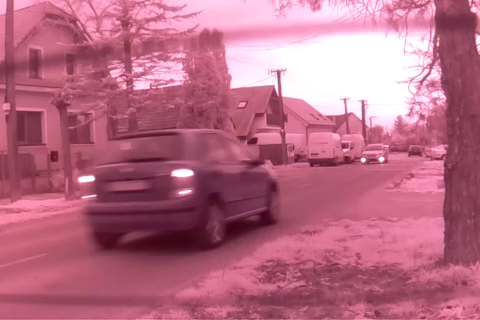car: (80, 127, 286, 249), (360, 142, 390, 165)
